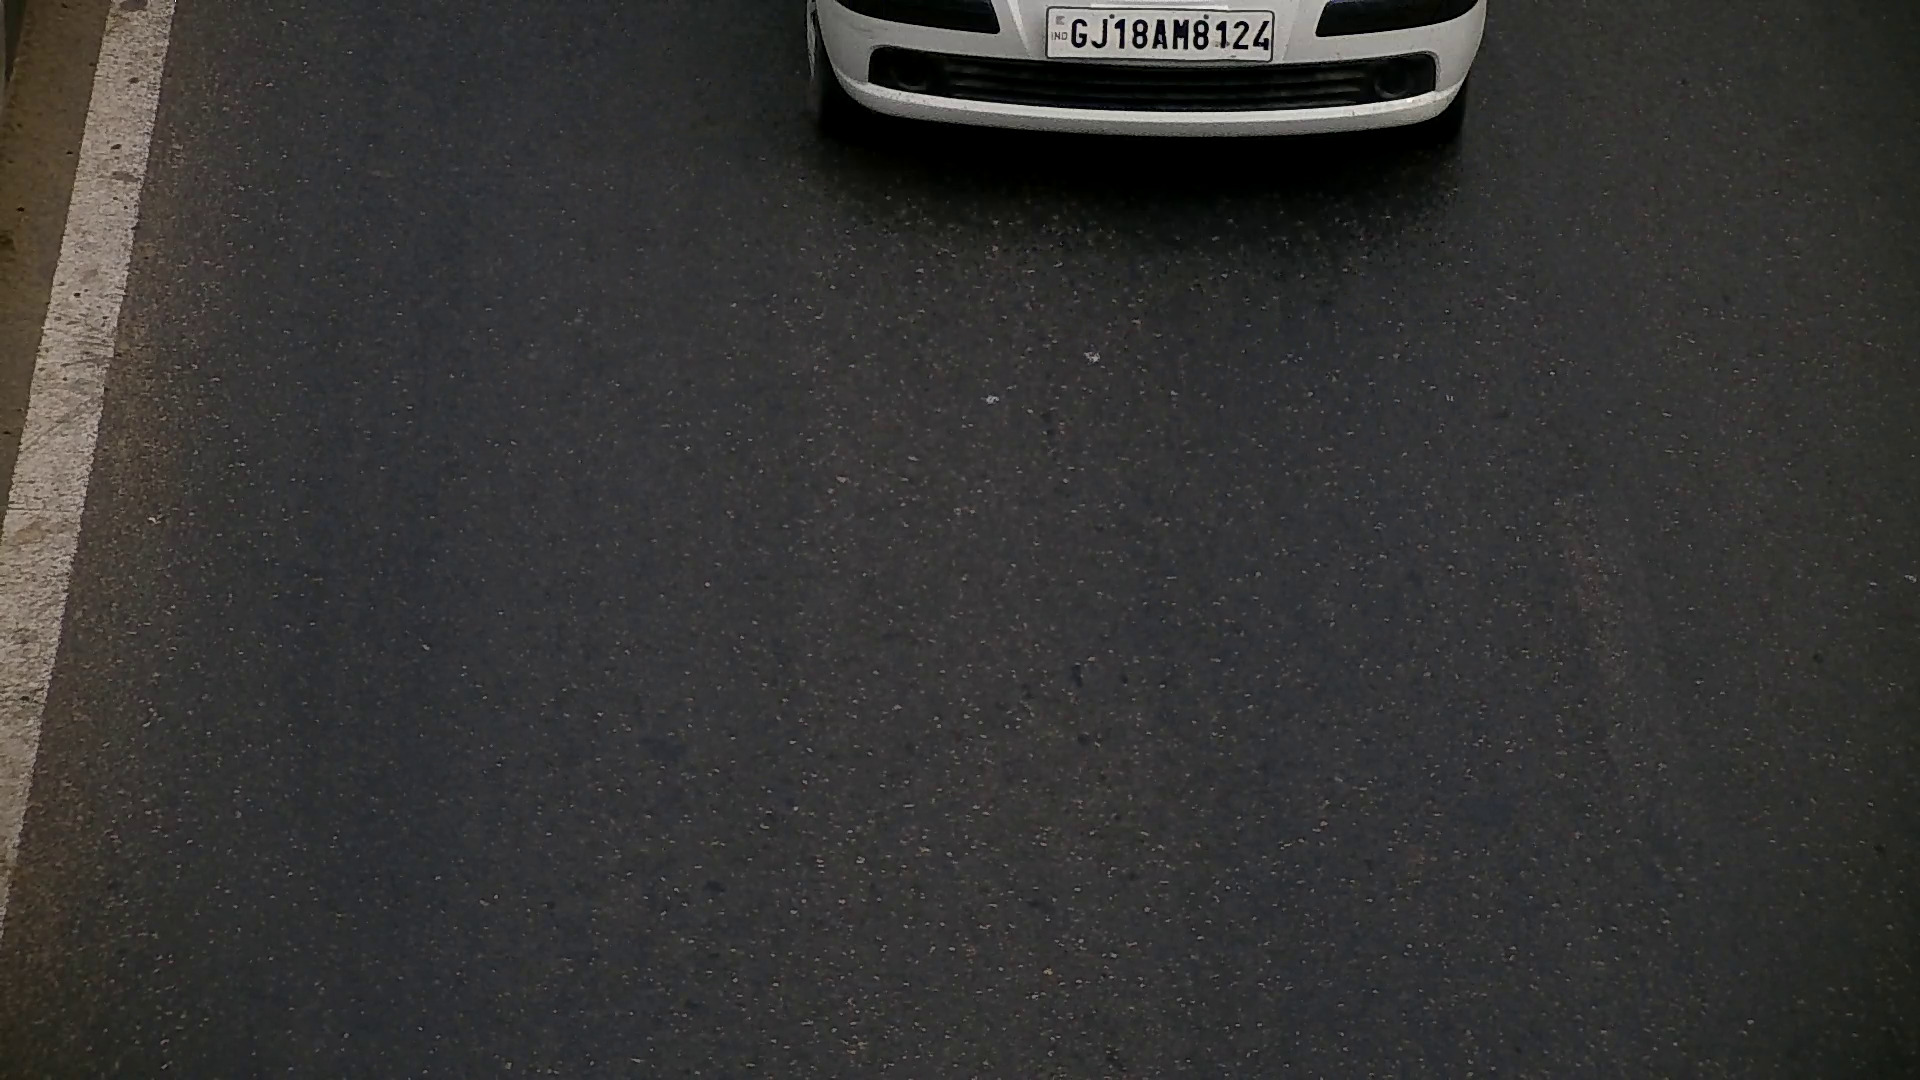numberplate: (1043, 2, 1278, 64)
